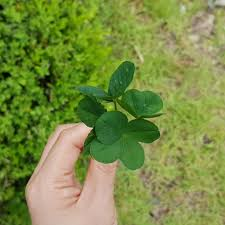4-clover: (93, 112, 161, 171)
